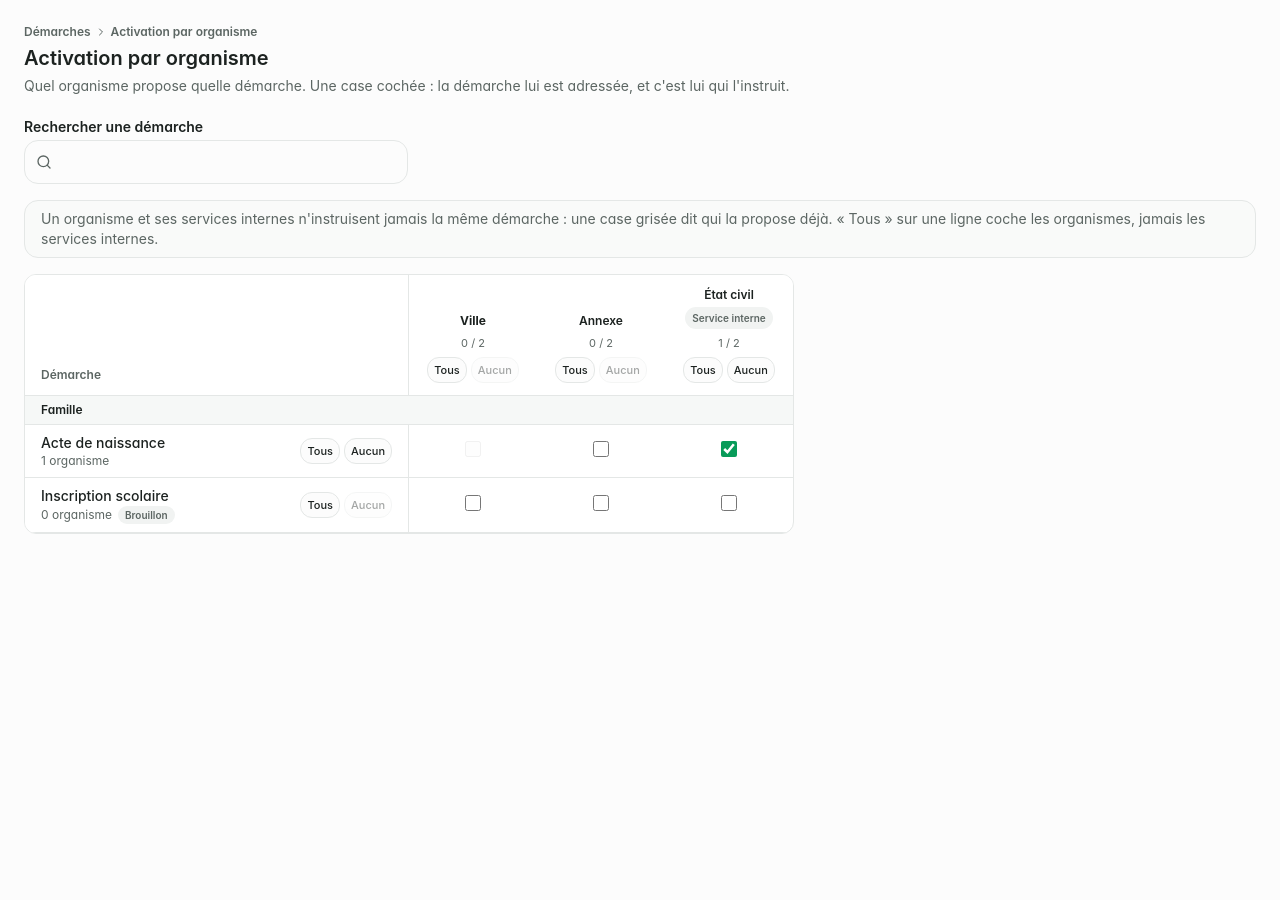
Test case: ProcedureActivationPage › borne les lots d'une colonne aux démarches affichées par la recherche
In the search field labelled "Rechercher une démarche": (216, 162) x1=24 y1=140 x2=408 y2=184, type "scolaire"
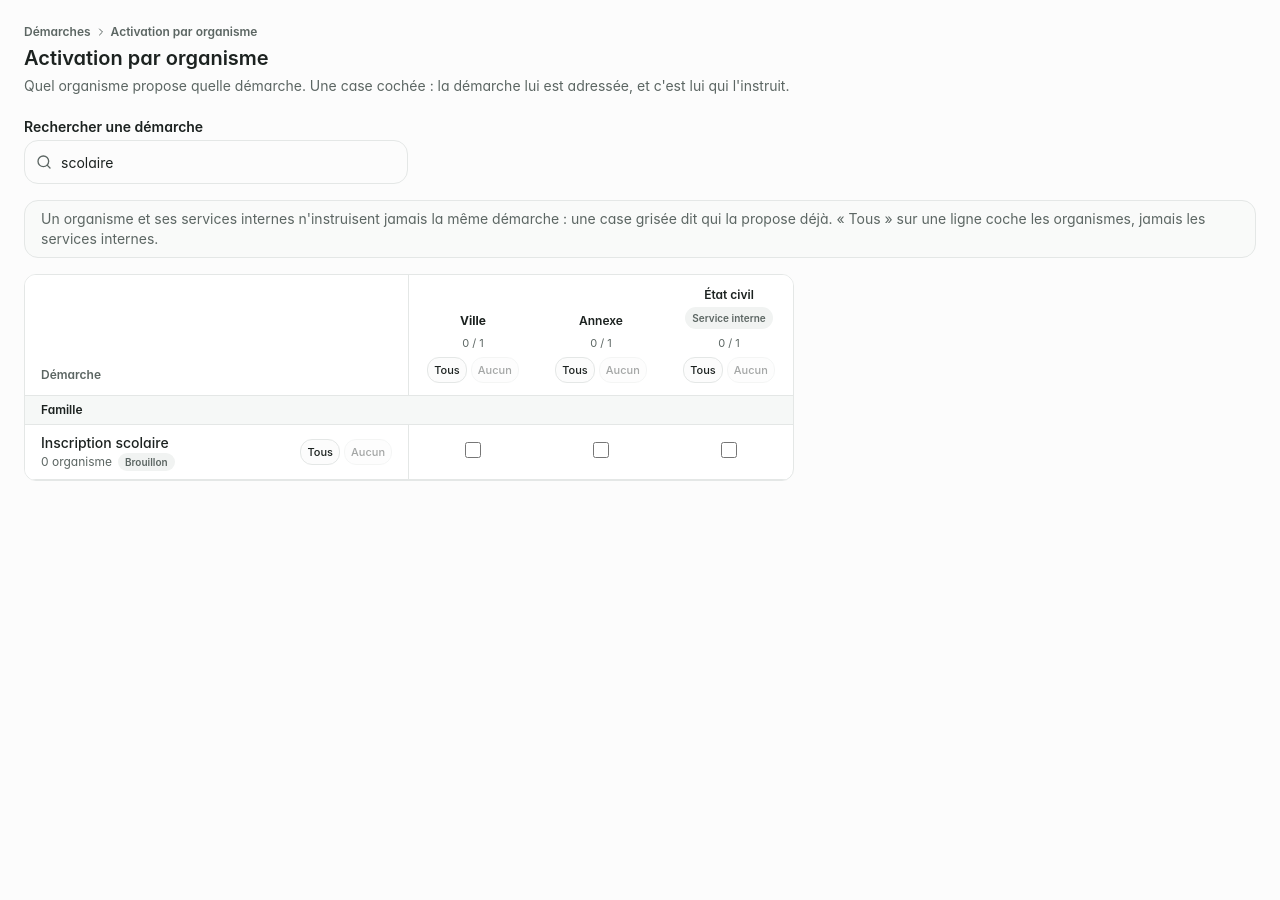
expect the text "Acte de naissance" is gone: met
Click the button with aria-label "Tout activer pour « Ville »": (447, 370) x1=427 y1=357 x2=467 y2=383
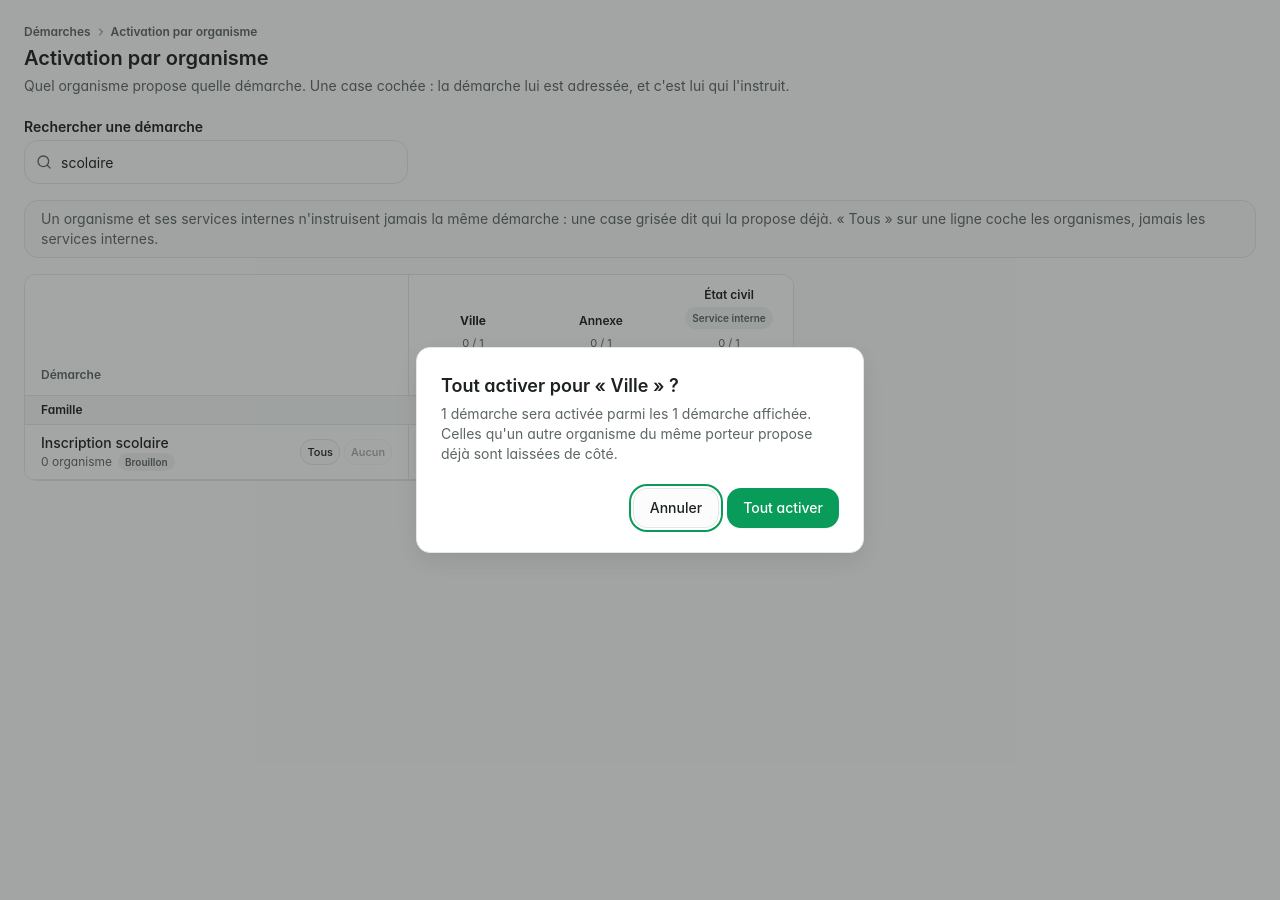
expect the text "parmi les 1 démarche affichée" is shown: met, box x1=441 y1=405 x2=812 y2=462
